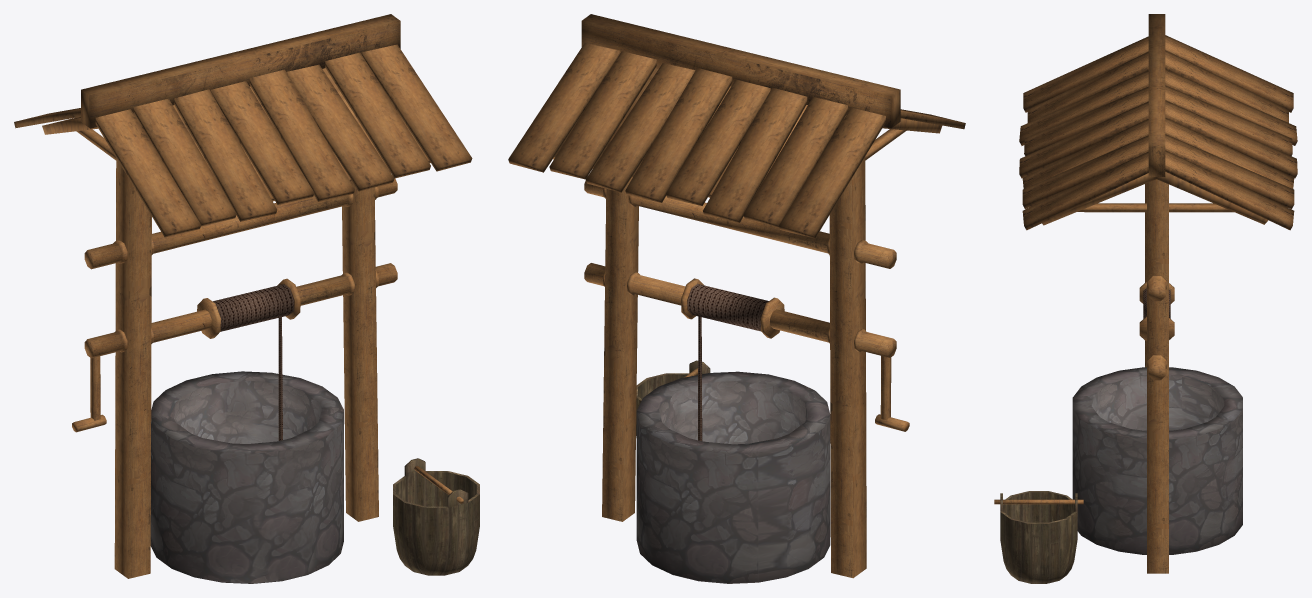
Rendered from Well_1.FBX.
3 renders of one model, left to right at view 1: azimuth 30°, elevation 25°; view 2: azimuth 150°, elevation 25°; view 3: azimuth 270°, elevation 25°, orthographic. The views are drawn at different scales.
Parts seen in each view (by area): view 1: Well_1; view 2: Well_1; view 3: Well_1.
Part boxes in pixels (x1,y1,x2,y2): Well_1: (14,14,479,583); Well_1: (508,14,965,583); Well_1: (994,14,1297,583).
Bounding box in the file's own units: 83.74 × 121 × 74.51.
